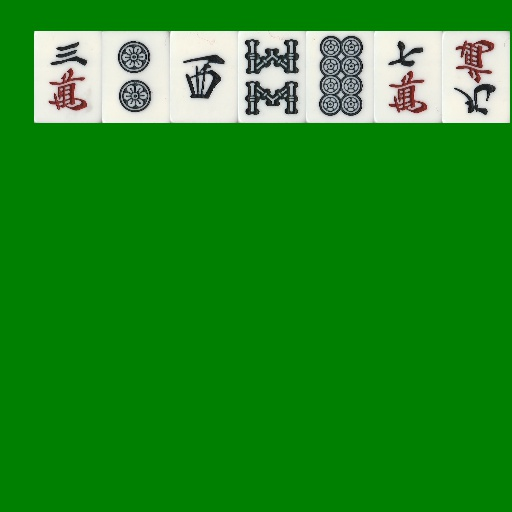2p: (102, 31, 170, 123)
3m: (34, 31, 102, 123)
7m: (374, 31, 442, 123)
8p: (306, 31, 374, 123)
8s: (238, 31, 306, 123)
9m: (442, 31, 510, 123)
west: (170, 31, 238, 123)
